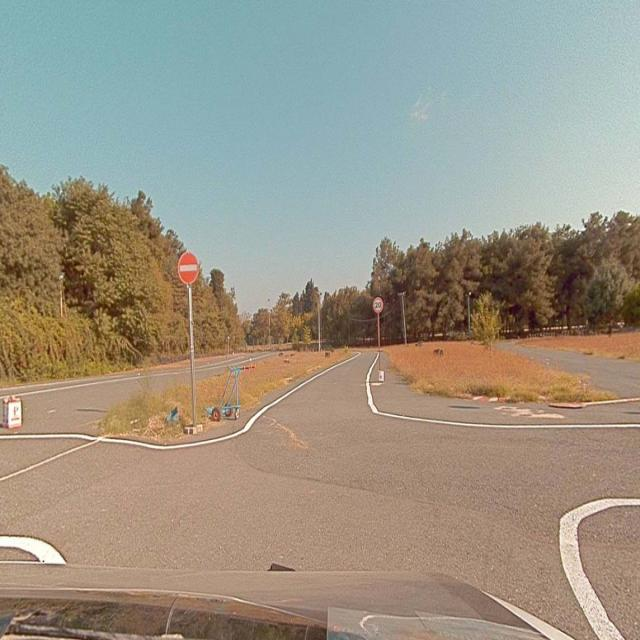20: (372, 296, 382, 312)
girisyok: (178, 252, 199, 284)
